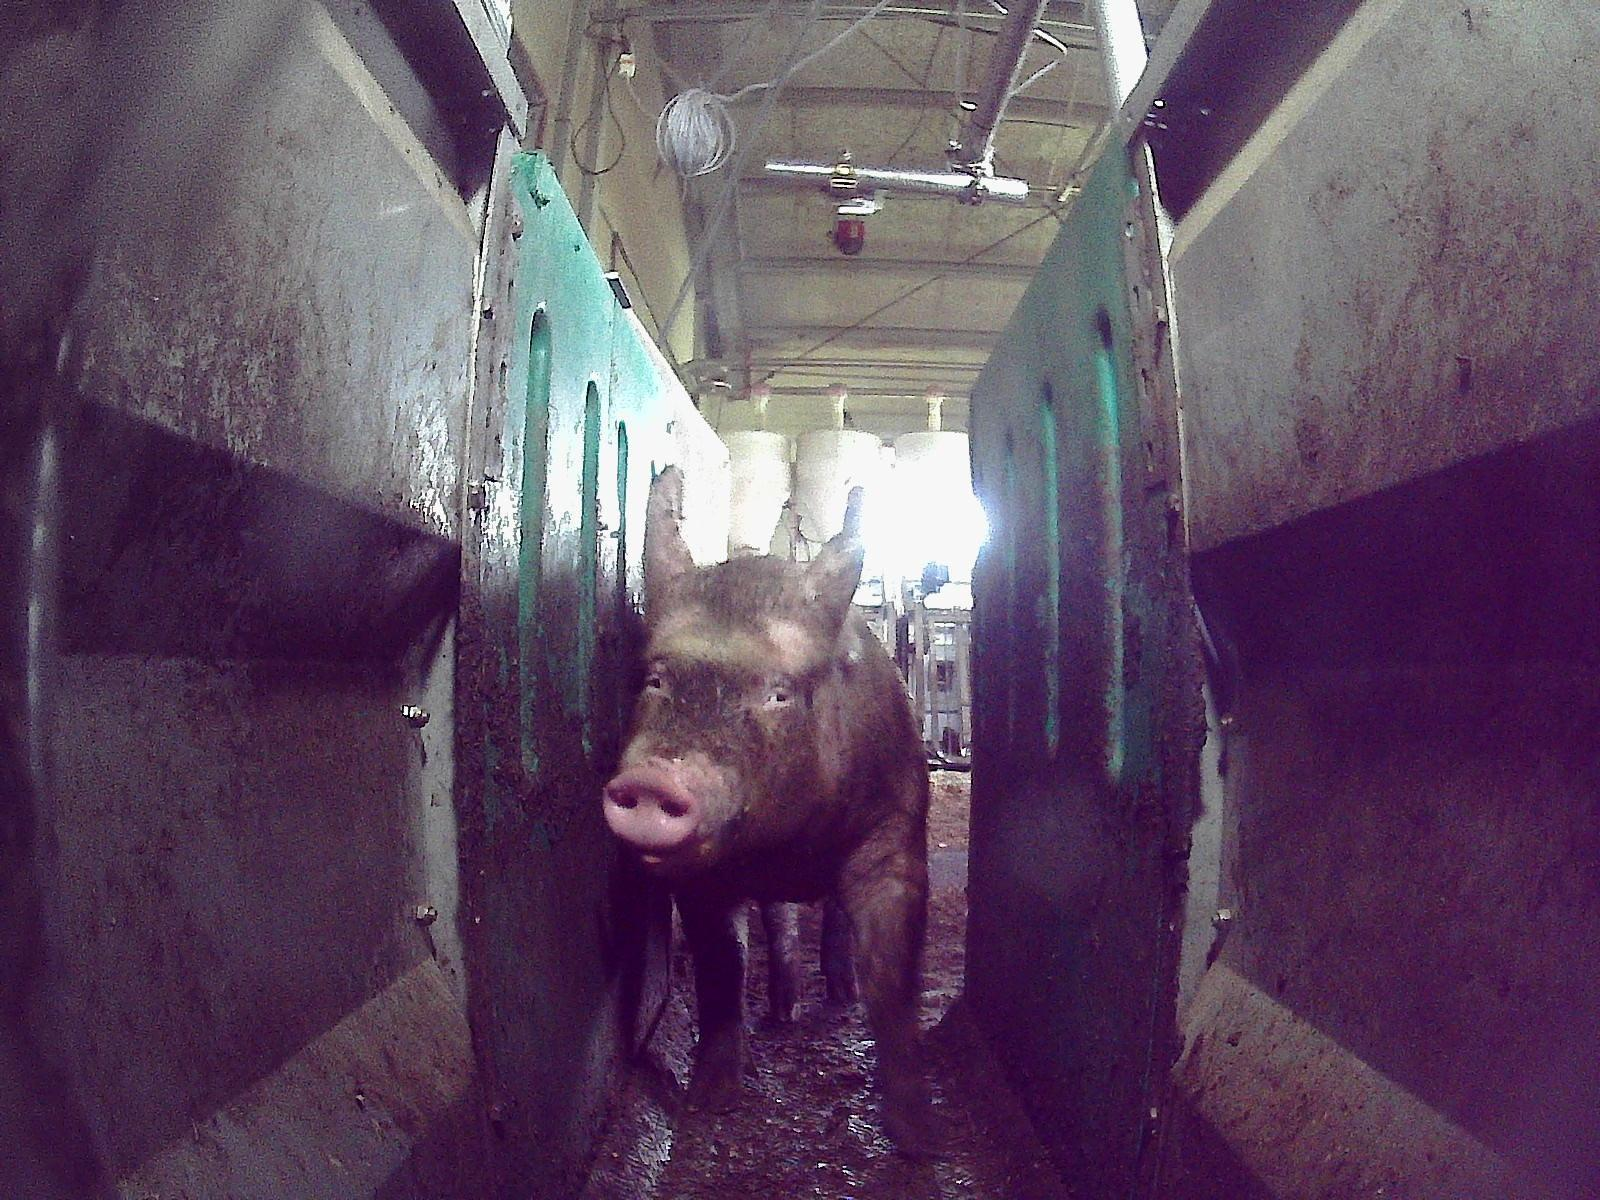Face: (597, 571, 827, 881)
